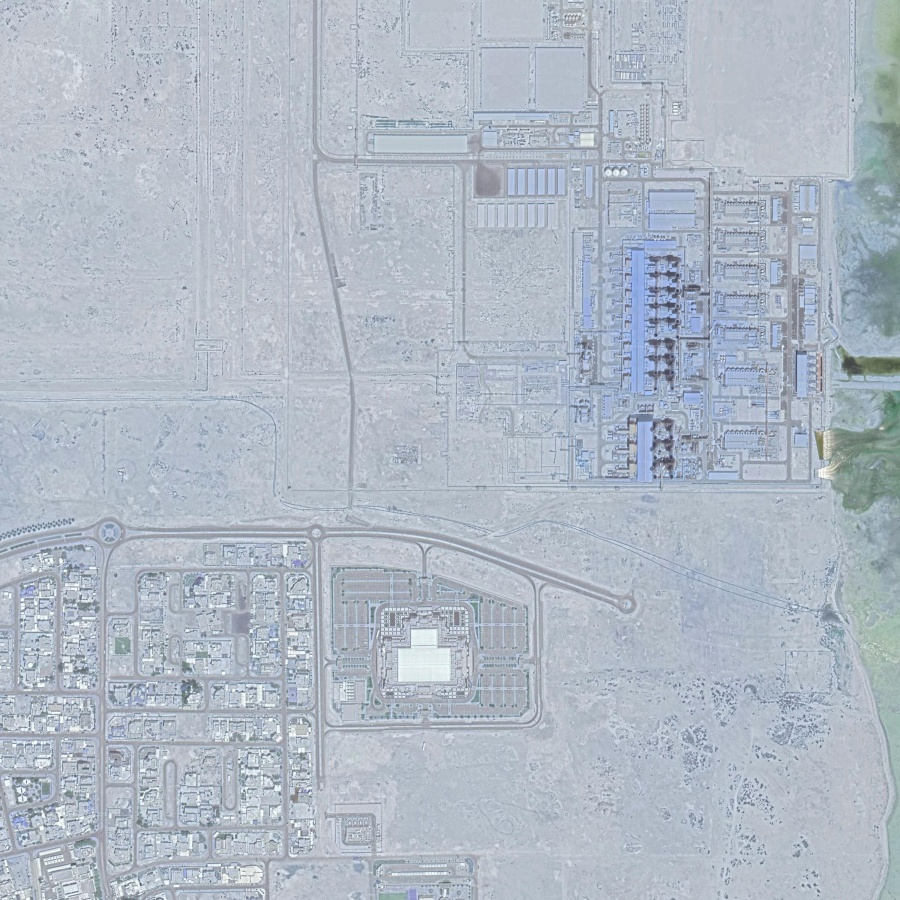PowerPlant: (592, 157, 854, 483)
